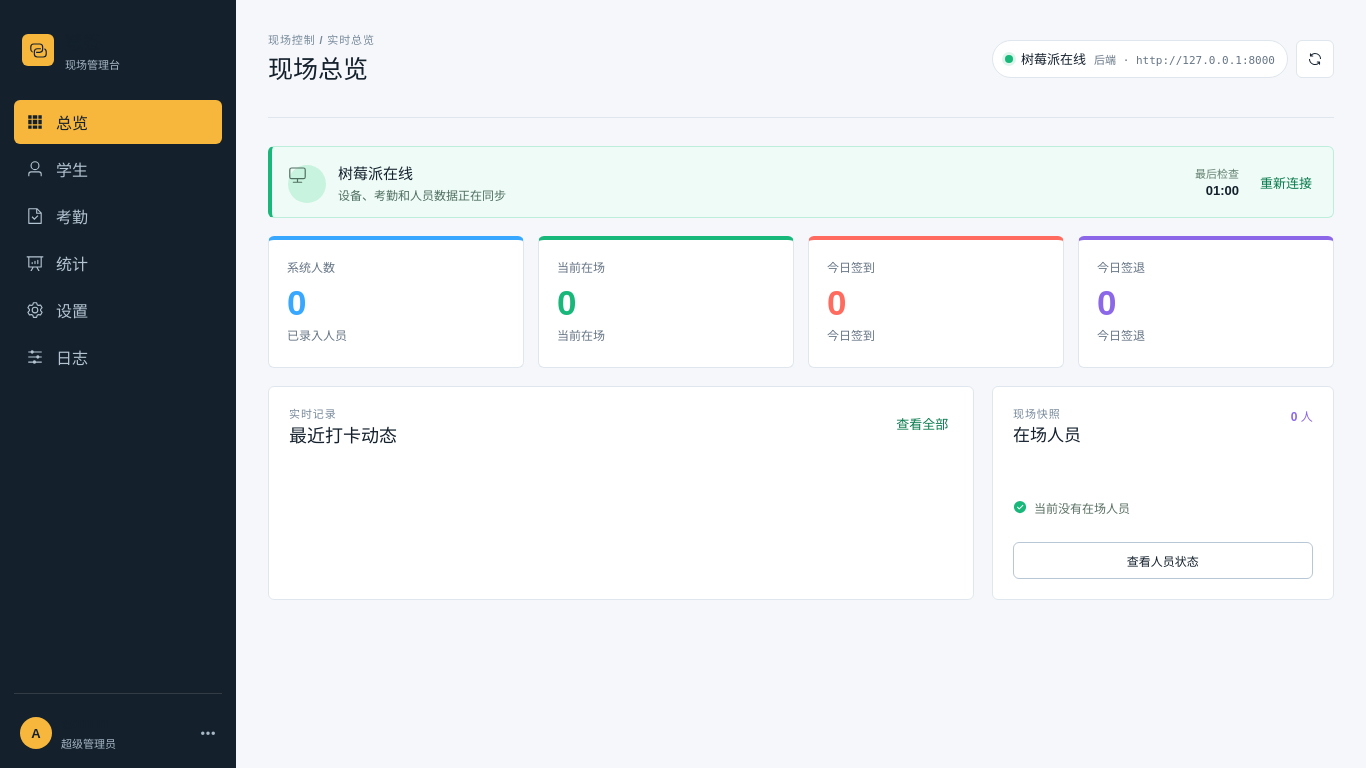
Test: HuiQian admin dashboard › renders, adds, and removes multiple punch windows in settings
Click the button with class "nav-item" showing "设置".
click(118, 310)  # box [14,288,222,332]
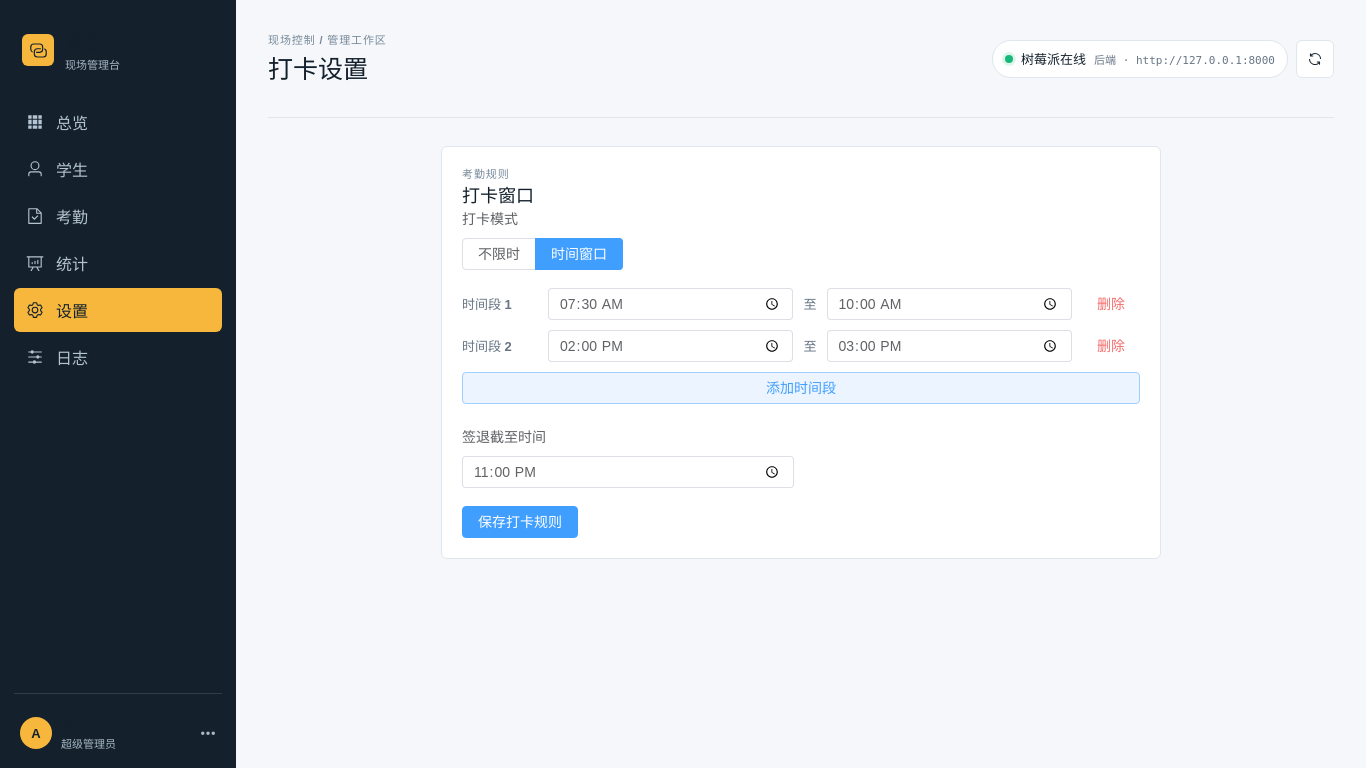
Now the time field with test id "punch-window-start-0" holds "07:30", box [559,289,782,319]
Click the button with test id "add-punch-window".
click(801, 388)  # box [462,372,1140,404]
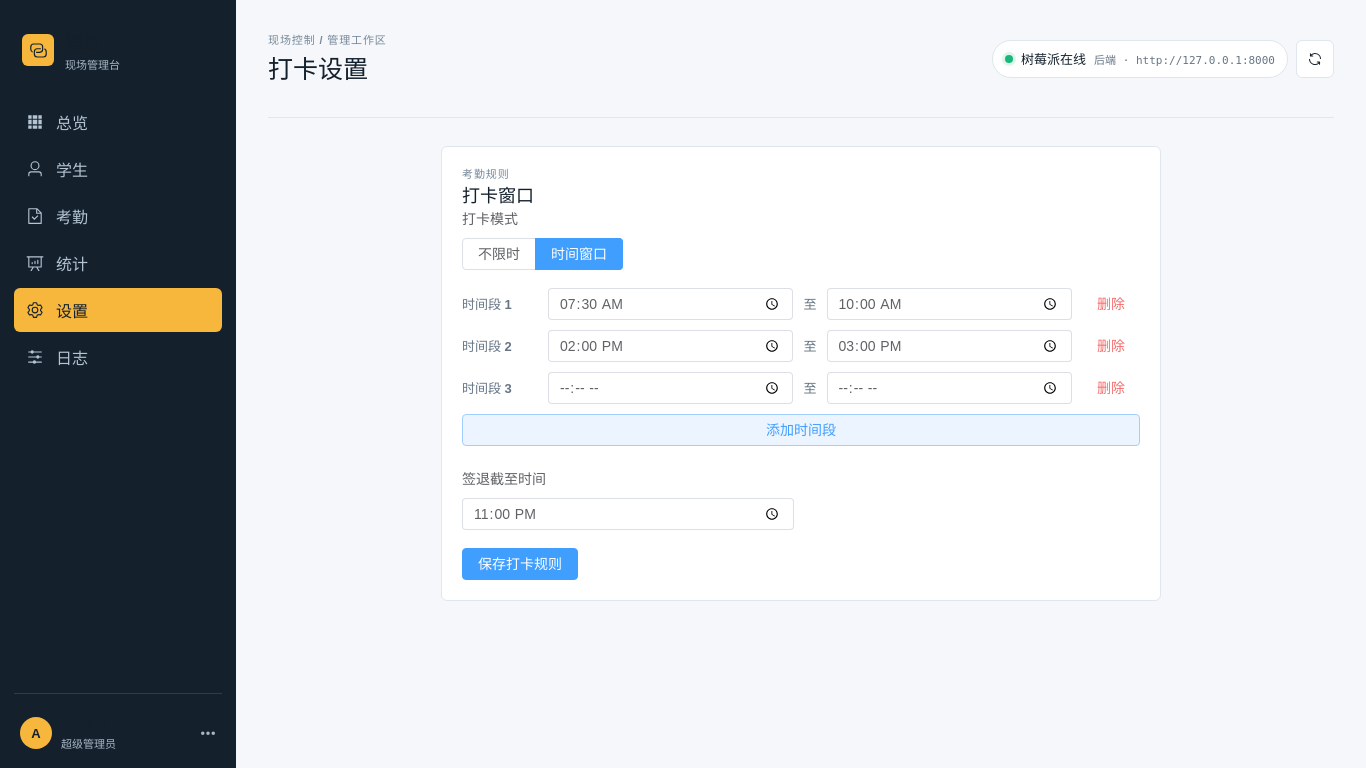
Click the button with test id "remove-punch-window-2".
click(1111, 388)  # box [1082,372,1140,404]
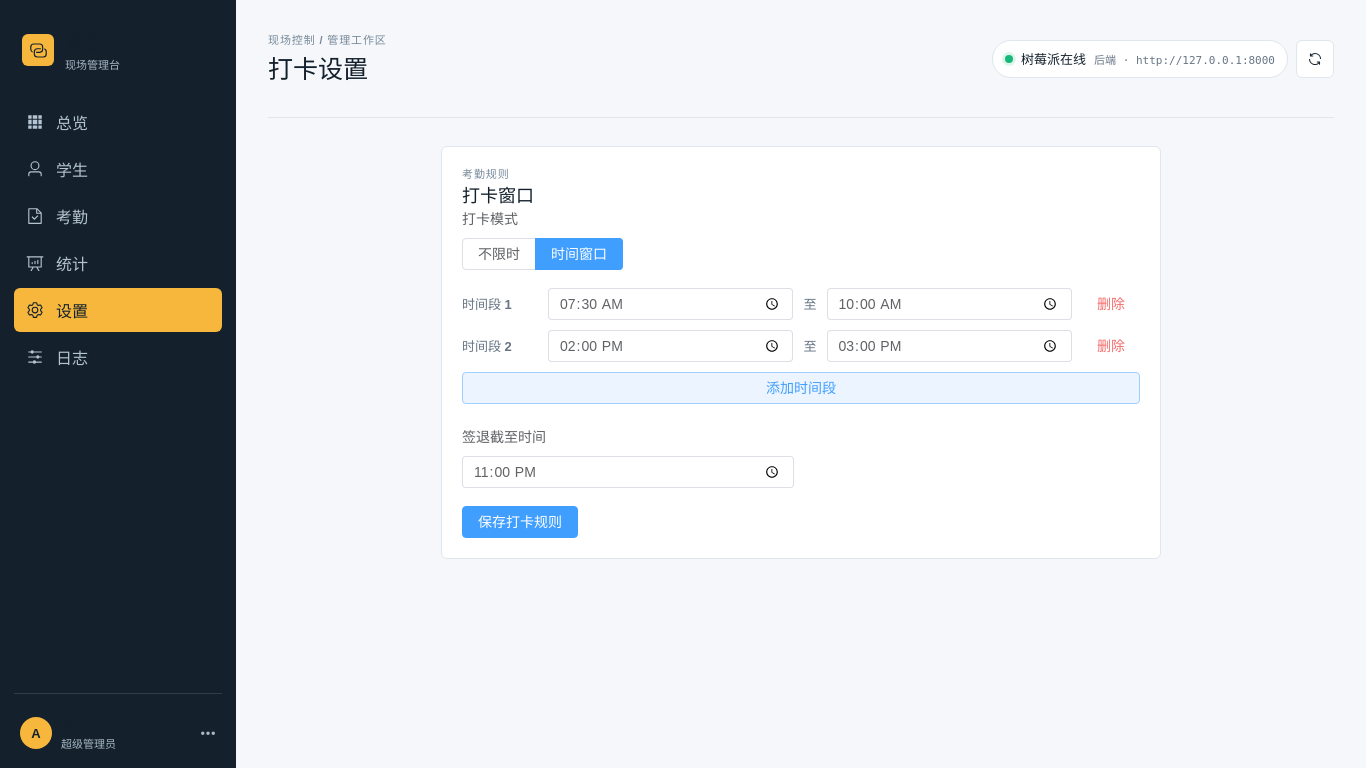
Click the button with test id "remove-punch-window-1".
click(1111, 346)  # box [1082,330,1140,362]
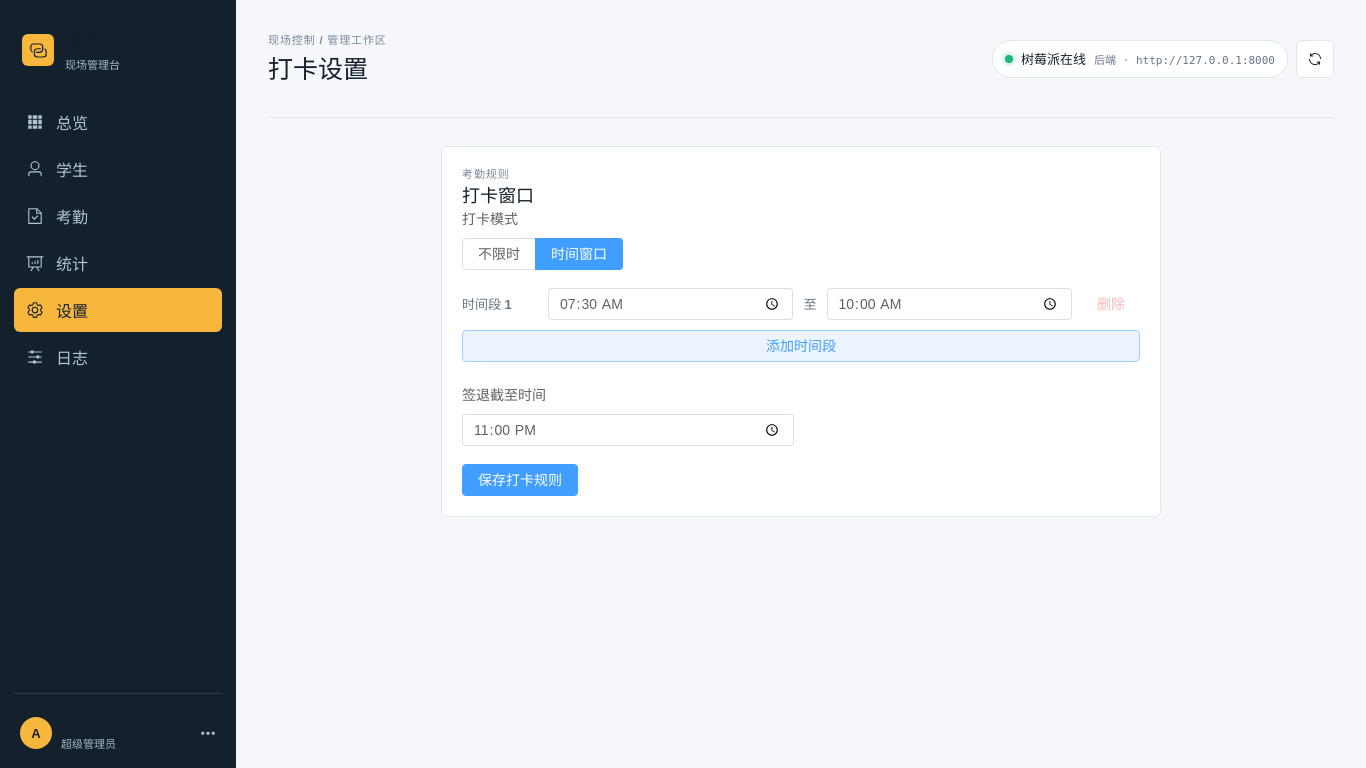
Now the button with test id "remove-punch-window-0" is disabled, box [1082,288,1140,320]
